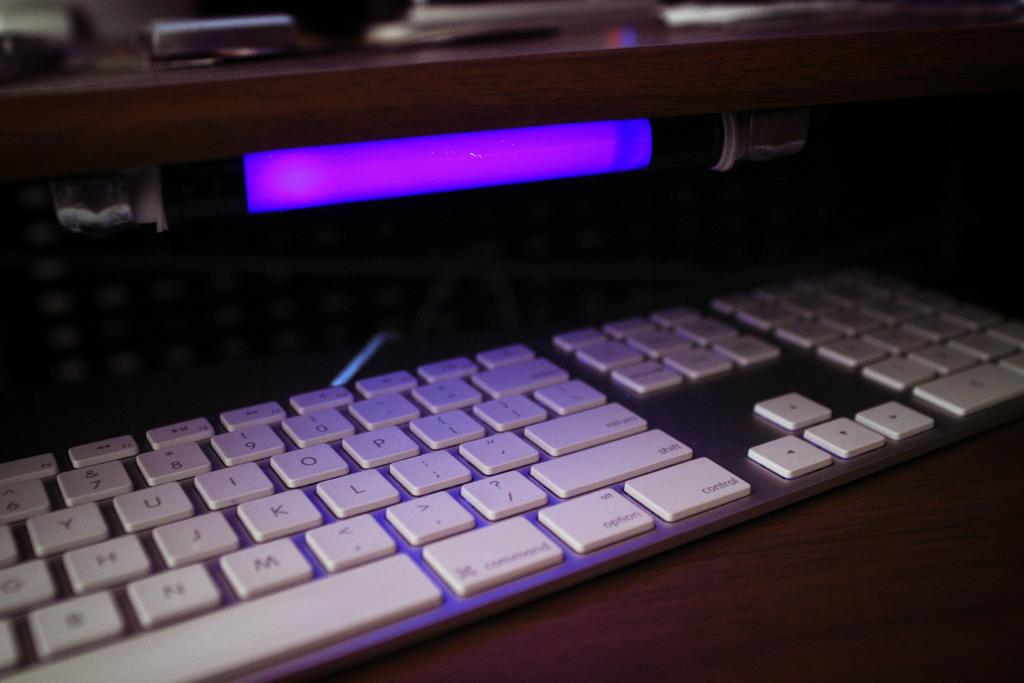Computer-keyboard: (0, 266, 1023, 682)
Laptop: (6, 115, 1024, 683)
